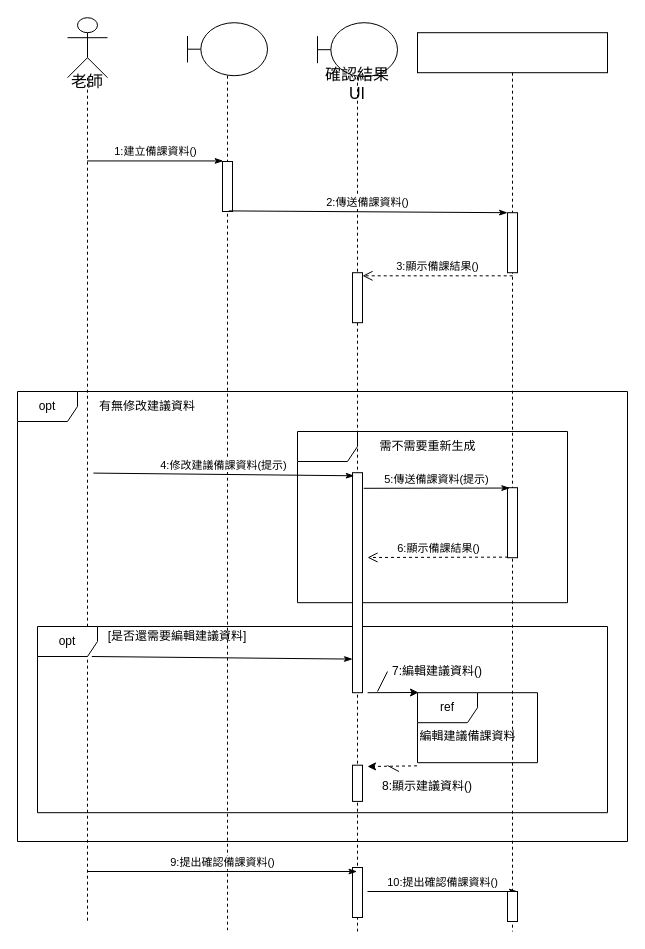
This 645x949 diagram has some shape labels left out. Each missing label, with the box of its shape:
Application Core: (416, 32, 608, 932)
loop: (296, 430, 568, 603)
輸入資料UI: (186, 22, 268, 930)
